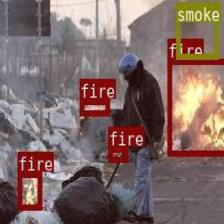fire: (166, 58, 224, 154), (17, 171, 41, 209), (80, 99, 109, 115), (108, 146, 126, 161)
smoke: (176, 1, 217, 58)
